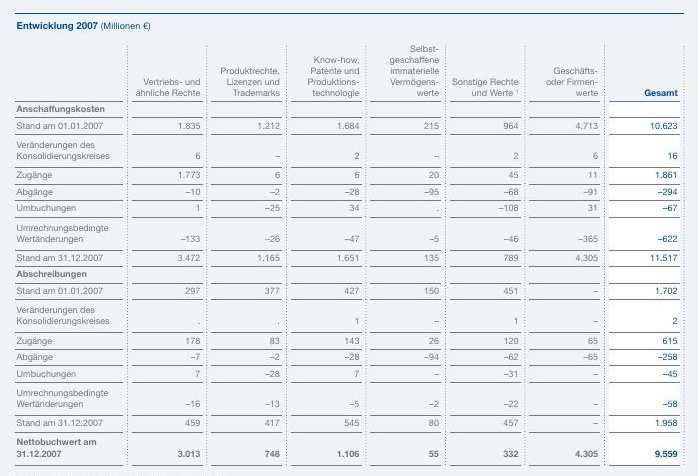table: (0, 0, 698, 476)
